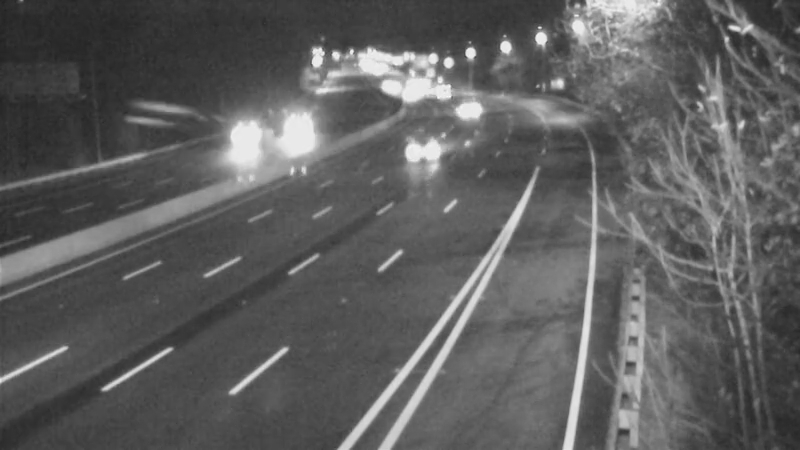vehicle: (368, 65, 418, 115), (419, 65, 469, 115), (389, 72, 439, 122), (444, 83, 494, 133), (394, 123, 444, 173), (222, 116, 272, 166), (269, 104, 319, 154)
